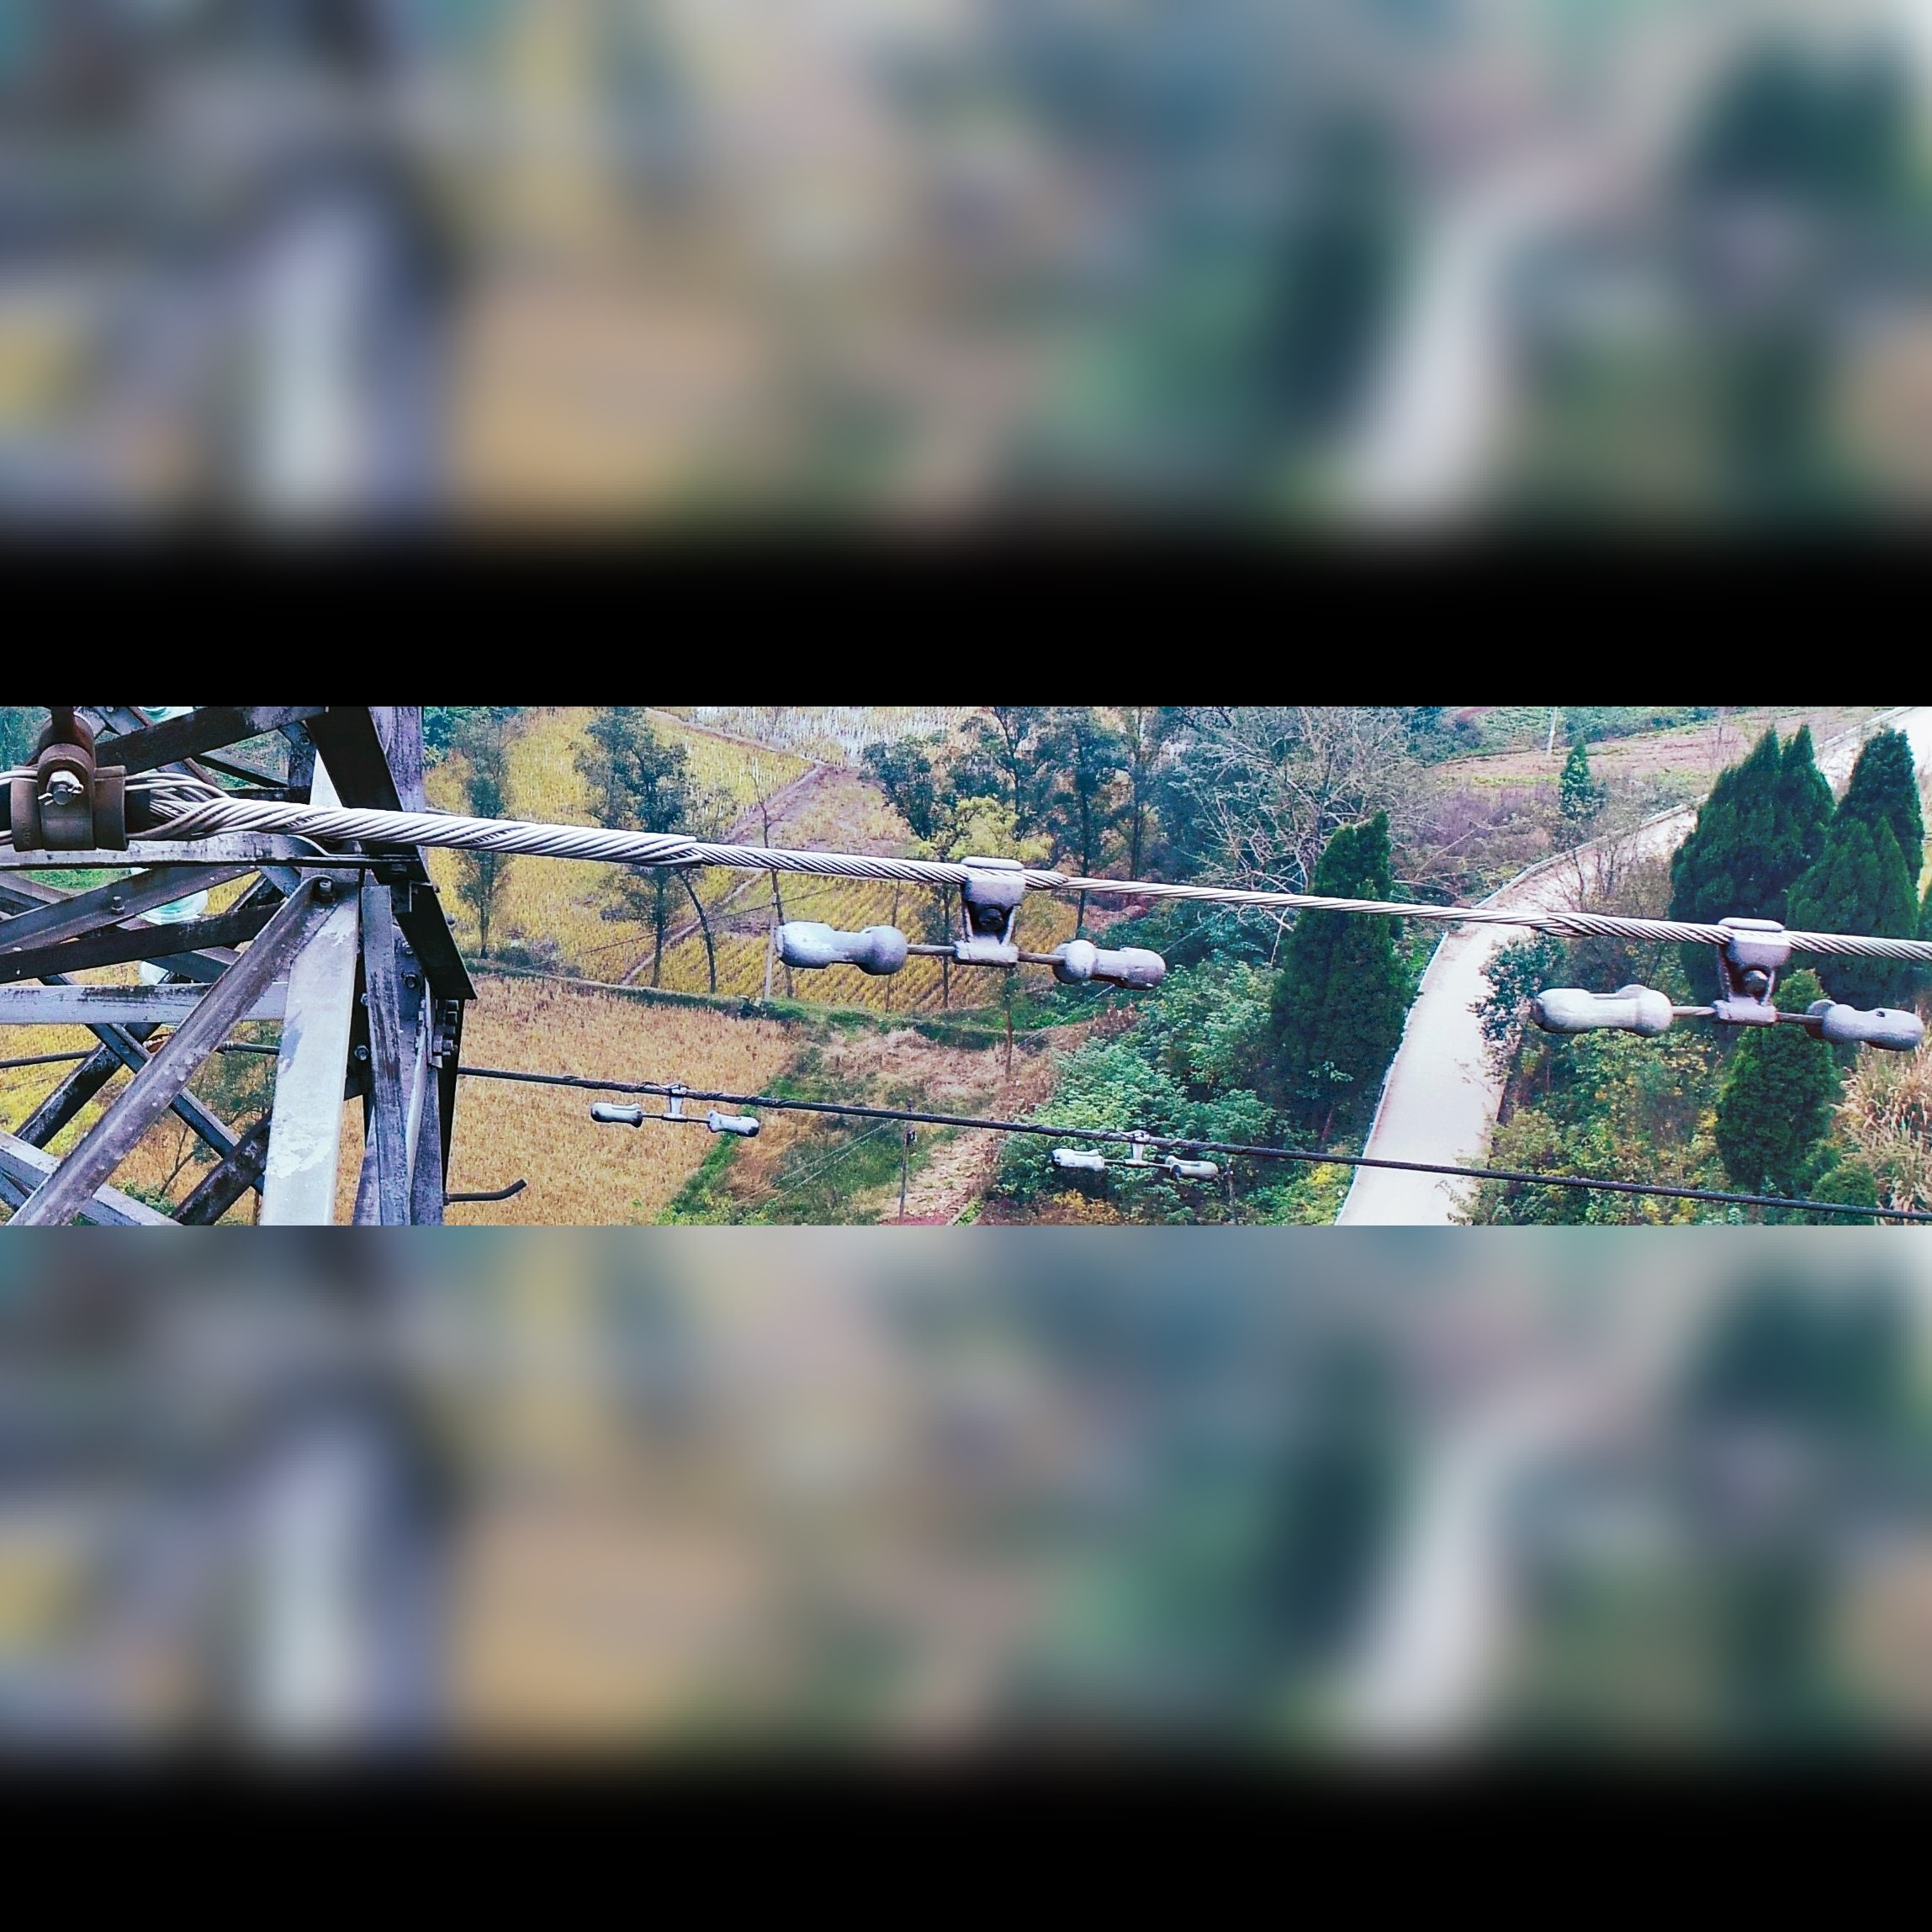Shockproof hammer: (759, 830, 1177, 1017), (1511, 906, 1932, 1062)
